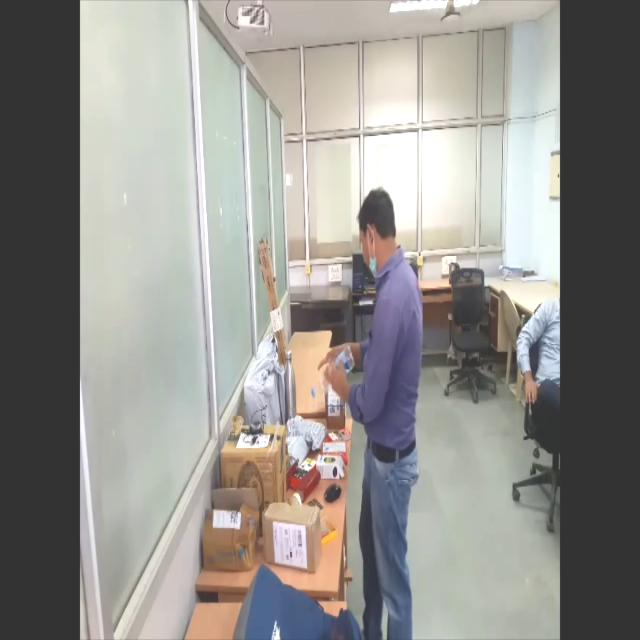normal: (318, 177, 436, 638)
